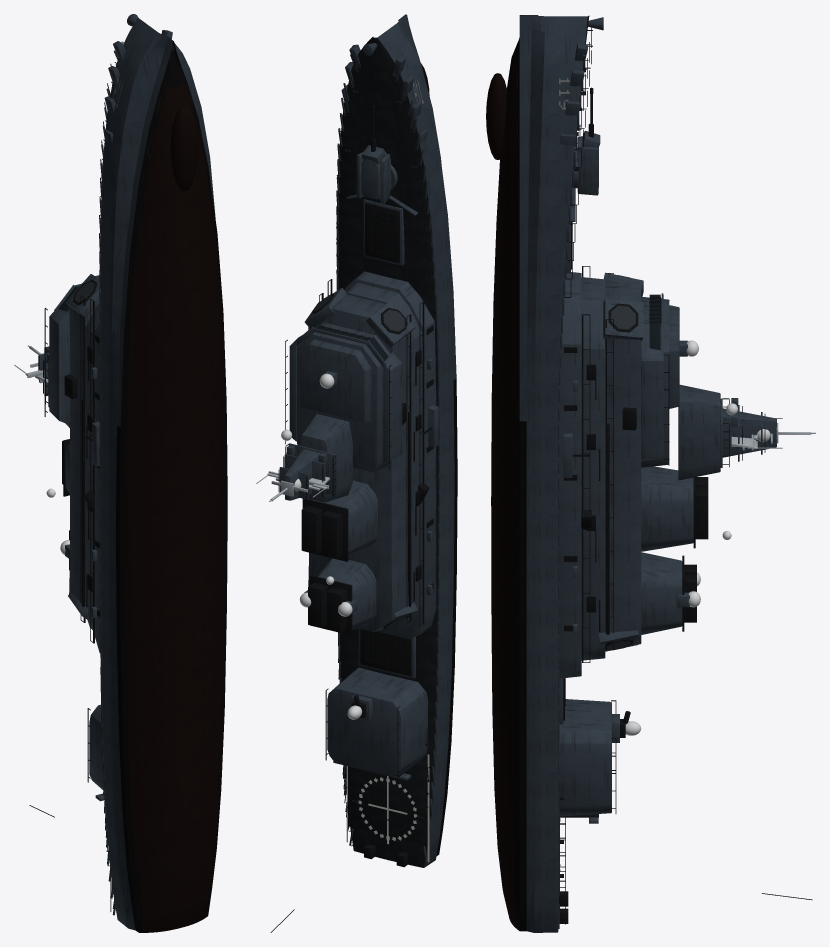
The model's file is player_ship.glb.
The picture shows the model from 3 angles, left to right: view 1: azimuth 30°, elevation 25°; view 2: azimuth 150°, elevation 25°; view 3: azimuth 270°, elevation 25°; orthographic projection. The views are drawn at different scales.
Parts seen in each view (by area): view 1: Hull, SS_SuperHazeGrey, SS_DarkMetal, SS_HullHazeGrey, SS_KeelBlack; view 2: SS_SuperHazeGrey, Hull, SS_DarkMetal, SS_DeckNonskid, SS_HullHazeGrey, SS_VLSCell, SS_HelipadMarking, SS_RadomeWhite, SS_ArrayFaceGrey, SS_SPYFace; view 3: Hull, SS_SuperHazeGrey, SS_DarkMetal, SS_HullHazeGrey, SS_KeelBlack, SS_RadomeWhite.
Part boxes in pixels (left/top/right/bottom): Hull: left=100, top=18, right=227, bottom=932; SS_SuperHazeGrey: left=39, top=274, right=104, bottom=801; SS_DarkMetal: left=29, top=41, right=123, bottom=908; SS_HullHazeGrey: left=99, top=14, right=172, bottom=915; SS_KeelBlack: left=170, top=106, right=198, bottom=191; SS_SuperHazeGrey: left=279, top=145, right=438, bottom=780; Hull: left=338, top=14, right=457, bottom=867; SS_DarkMetal: left=270, top=54, right=433, bottom=932; SS_DeckNonskid: left=348, top=727, right=428, bottom=845; SS_HullHazeGrey: left=336, top=43, right=440, bottom=864; SS_VLSCell: left=364, top=208, right=406, bottom=671; SS_HelipadMarking: left=346, top=754, right=429, bottom=861; SS_RadomeWhite: left=281, top=373, right=362, bottom=719; SS_ArrayFaceGrey: left=256, top=471, right=329, bottom=501; SS_SPYFace: left=313, top=295, right=406, bottom=628; Hull: left=491, top=15, right=589, bottom=932; SS_SuperHazeGrey: left=559, top=130, right=776, bottom=823; SS_DarkMetal: left=559, top=27, right=812, bottom=924; SS_HullHazeGrey: left=558, top=17, right=603, bottom=928; SS_KeelBlack: left=486, top=73, right=506, bottom=159; SS_RadomeWhite: left=625, top=340, right=770, bottom=735.
Bounding box in the file's own units: 20.5 × 155 × 51.56.
13 materials, 8 textured.
